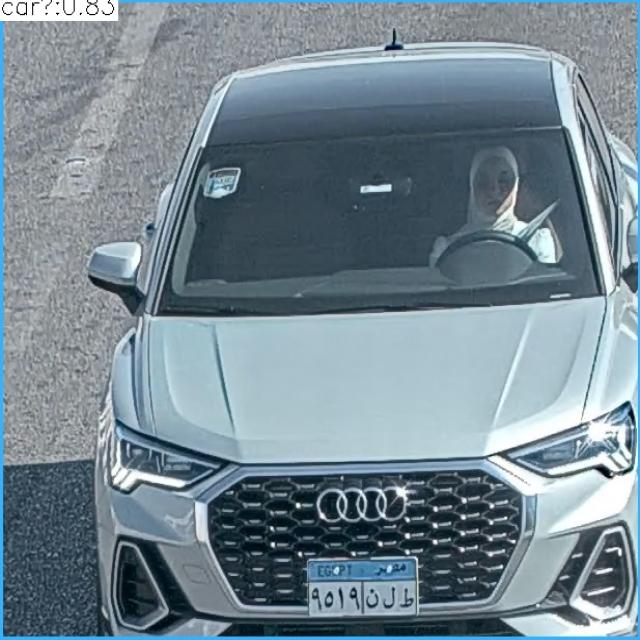windshield: (153, 143, 604, 299)
